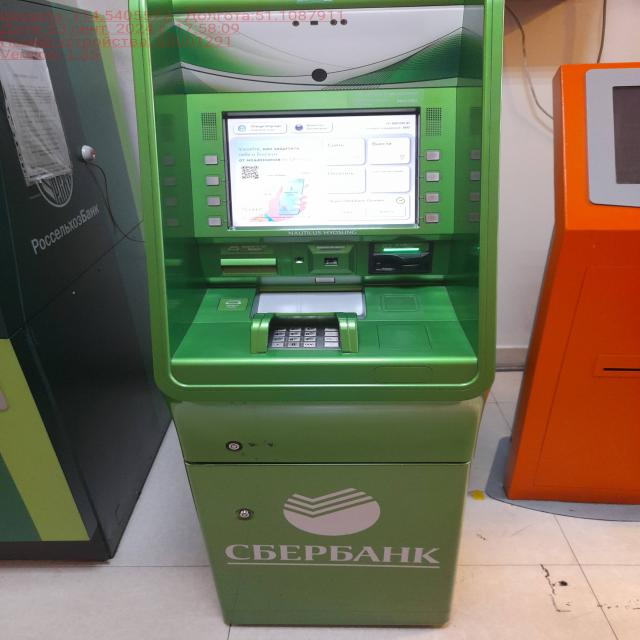bank: (126, 0, 500, 624)
